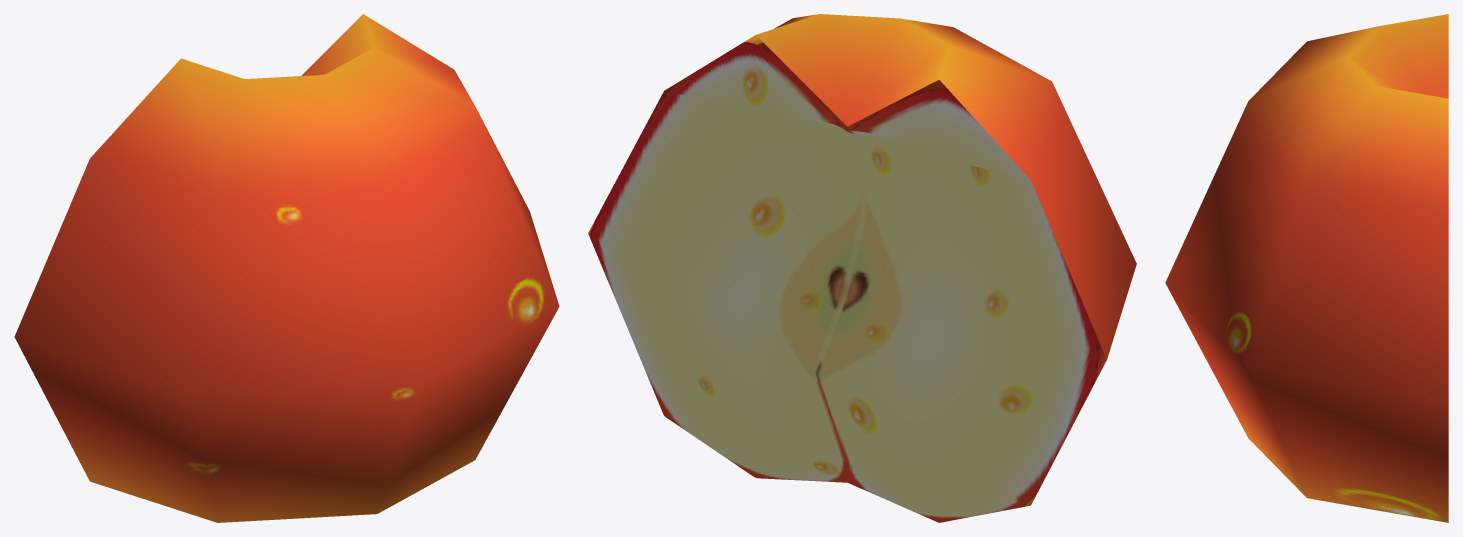
Rendered from AppS.FBX.
3 renders of one model, left to right at view 1: azimuth 30°, elevation 25°; view 2: azimuth 150°, elevation 25°; view 3: azimuth 270°, elevation 25°, orthographic. The views are drawn at different scales.
Visible parts, largest first — view 1: apple Slice; view 2: apple Slice; view 3: apple Slice.
Part boxes in pixels (box(x1,y1,x2,y2)): apple Slice: box(14, 14, 559, 522); apple Slice: box(588, 14, 1136, 522); apple Slice: box(1165, 14, 1448, 522).
Bounding box in the file's own units: 10.56 × 8.62 × 5.28.
